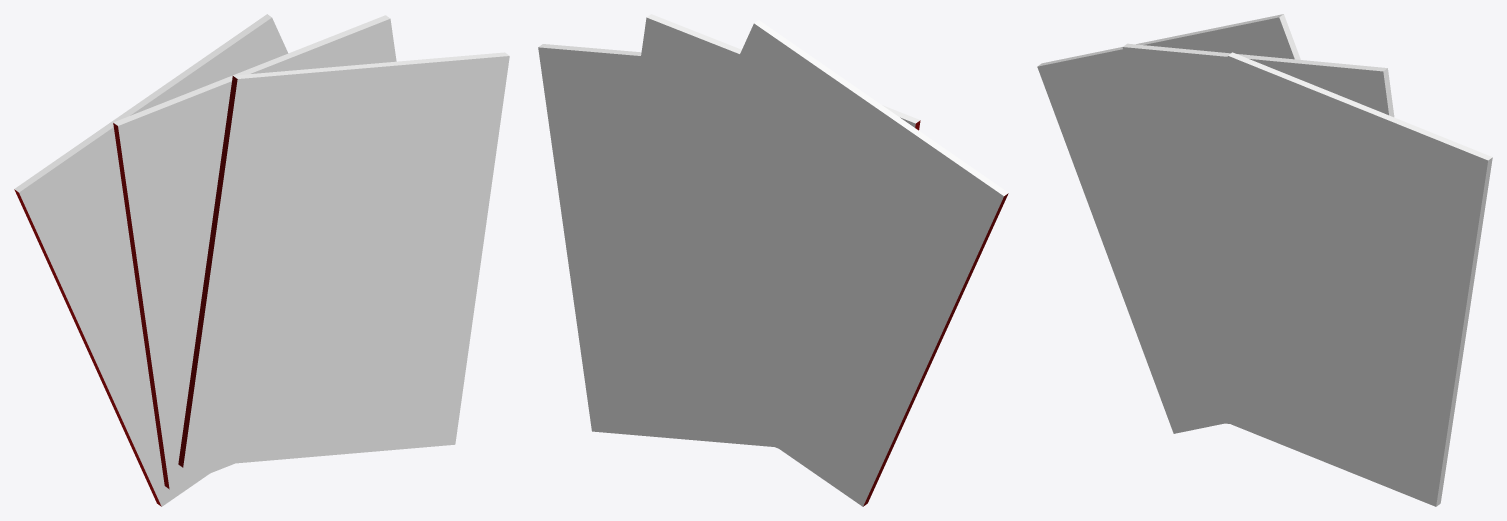
The picture shows the model from 3 angles, left to right: view 1: azimuth 30°, elevation 25°; view 2: azimuth 150°, elevation 25°; view 3: azimuth 330°, elevation 25°; orthographic projection. The views are drawn at different scales.
Parts seen in each view (by area): view 1: time magazine stack; view 2: time magazine stack; view 3: time magazine stack.
Boxes of the visible parts, x1,y1,x2,y2 form: time magazine stack: [14, 14, 509, 506]; time magazine stack: [538, 14, 1008, 506]; time magazine stack: [1037, 14, 1492, 506].
Size of the model in its own units: 14.42 by 13.24 by 0.75.
